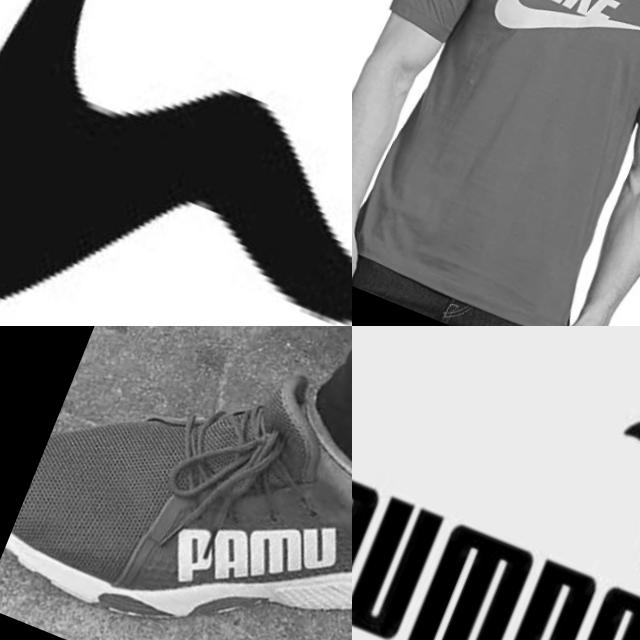NIKE_fake: (0, 0, 352, 326)
NIKE_original: (465, 0, 640, 96)
PUMA_fake: (352, 326, 640, 640), (134, 449, 352, 640)
